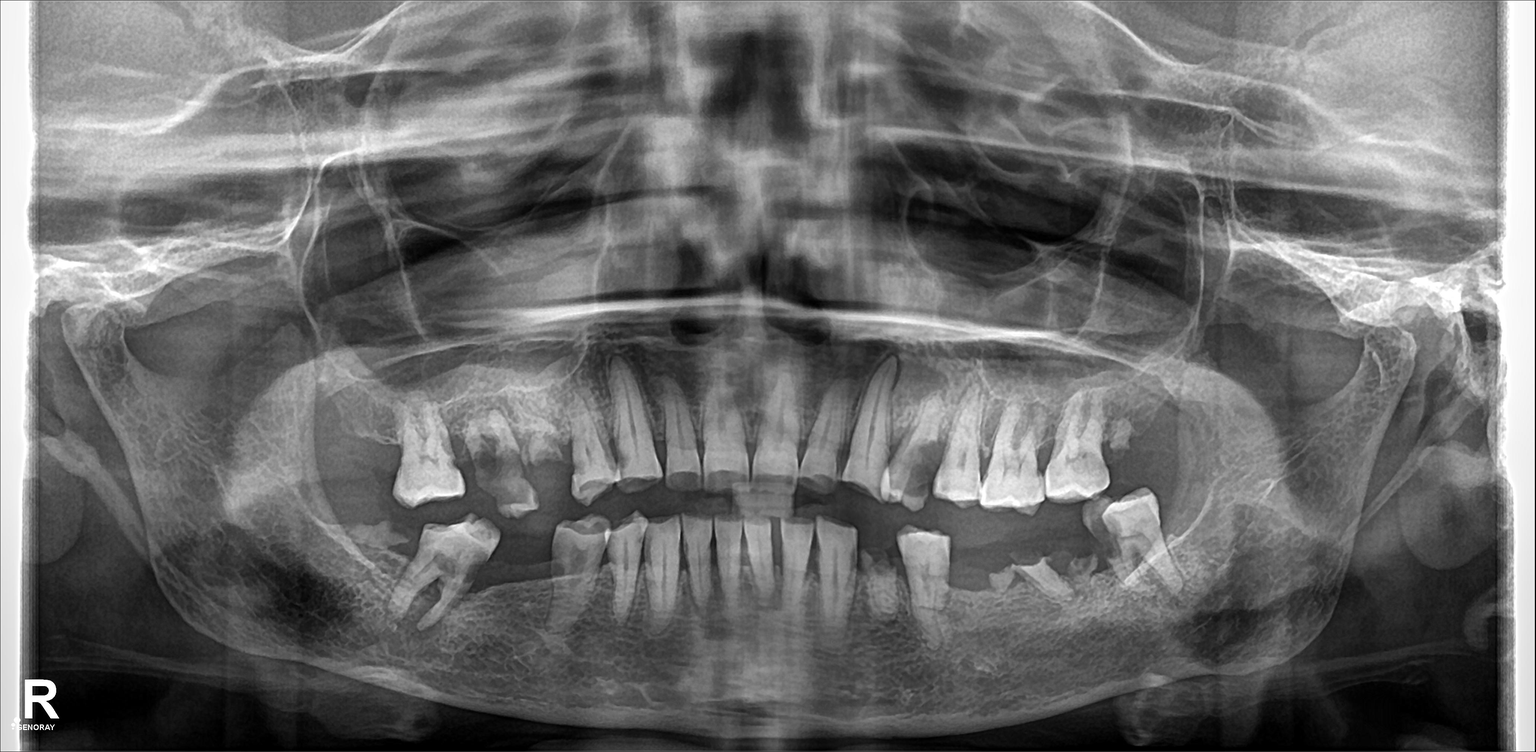Dental Caries: (894, 432, 939, 503), (462, 436, 523, 487)
Missing Tooth: (492, 542, 547, 633), (365, 393, 411, 496), (313, 402, 362, 489), (1108, 402, 1153, 489), (348, 517, 395, 594), (959, 532, 997, 606)
Retained Root: (1013, 523, 1064, 611), (520, 402, 568, 484), (862, 532, 904, 621), (1069, 536, 1114, 609)
